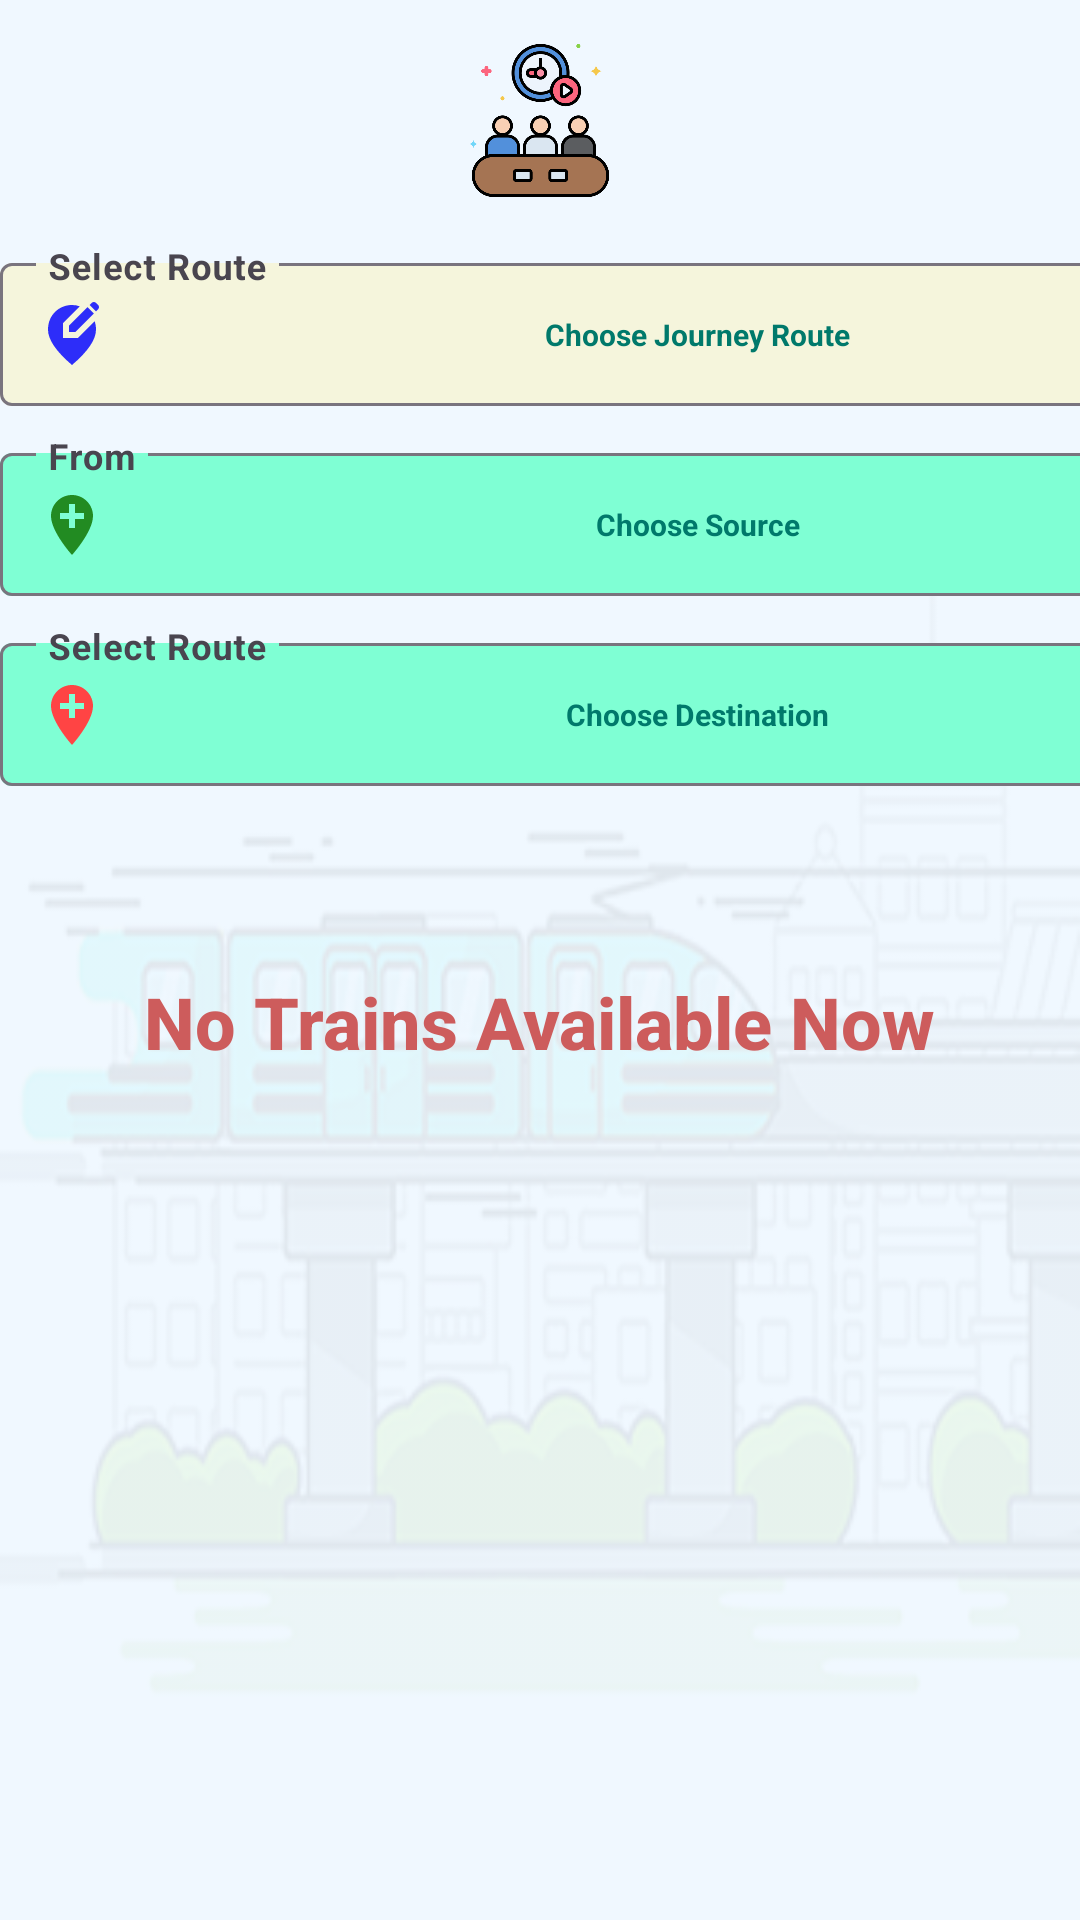

Screen size 1080*1920. Icon name, then its center in pixels as (x=x, y=y):
duration: (x=539, y=120)
